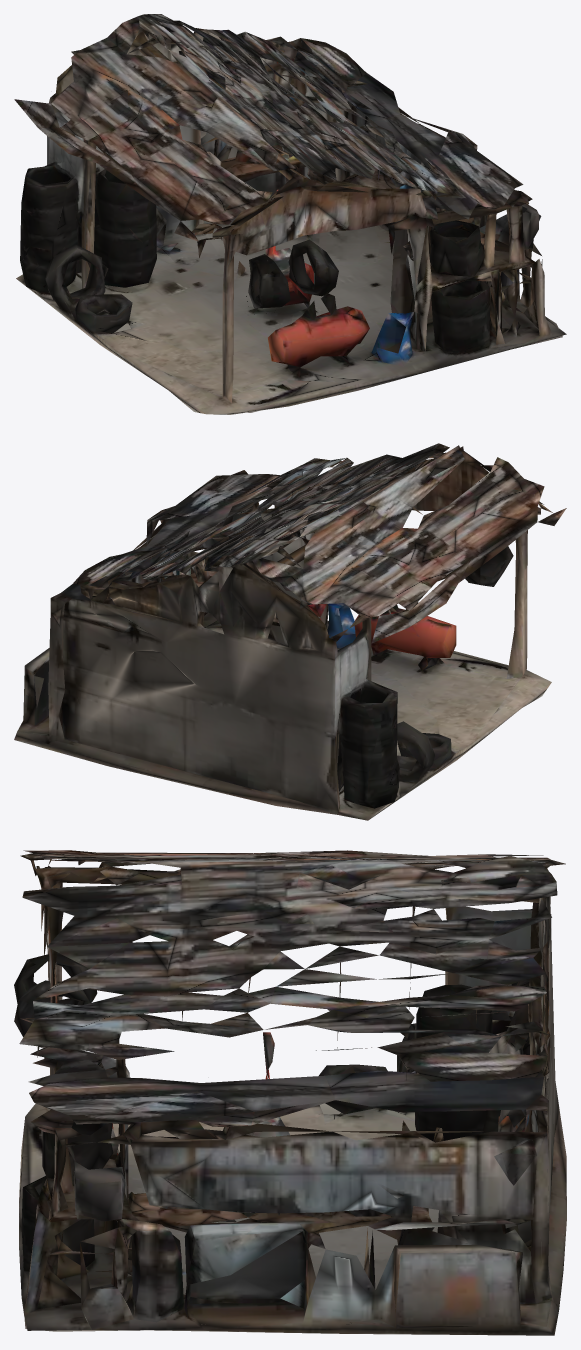
File: vulcanizing.glb
The picture shows the model from 3 angles, top to bottom: view 1: azimuth 30°, elevation 25°; view 2: azimuth 150°, elevation 25°; view 3: azimuth 270°, elevation 25°; orthographic projection. The views are drawn at different scales.
Parts seen in each view (by area): view 1: geometry_0; view 2: geometry_0; view 3: geometry_0.
Part boxes in pixels (x1,y1,x2,y2): geometry_0: [14, 14, 566, 414]; geometry_0: [14, 443, 566, 820]; geometry_0: [14, 850, 566, 1335].
Bounding box in the file's own units: 1.65 × 0.9997 × 1.56.
Materials: 1 (1 with a texture image).
